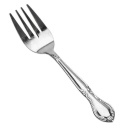fork: (8, 1, 123, 127)
